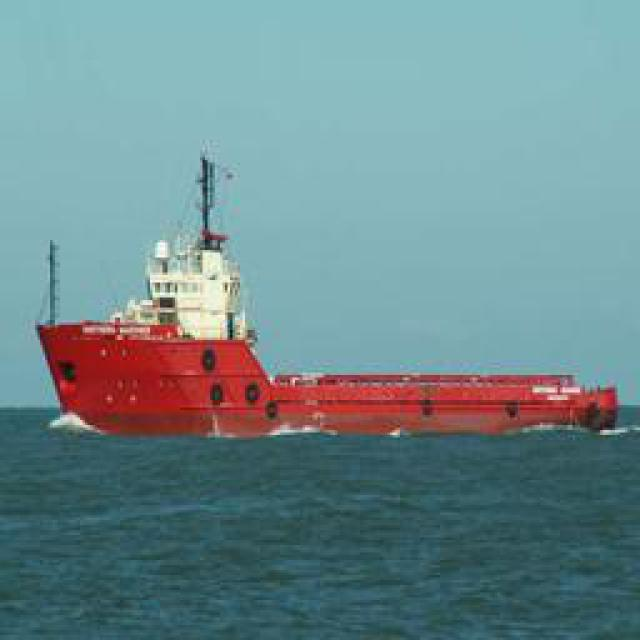Ship: (34, 136, 609, 434)
